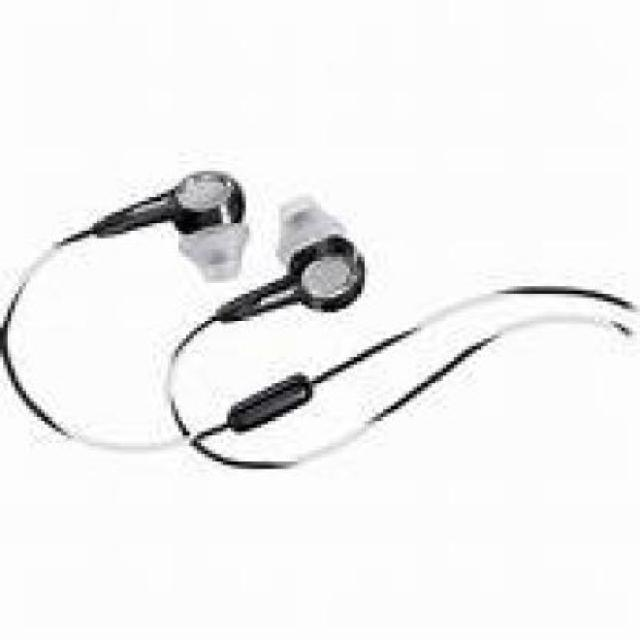earphone: (2, 41, 634, 506)
